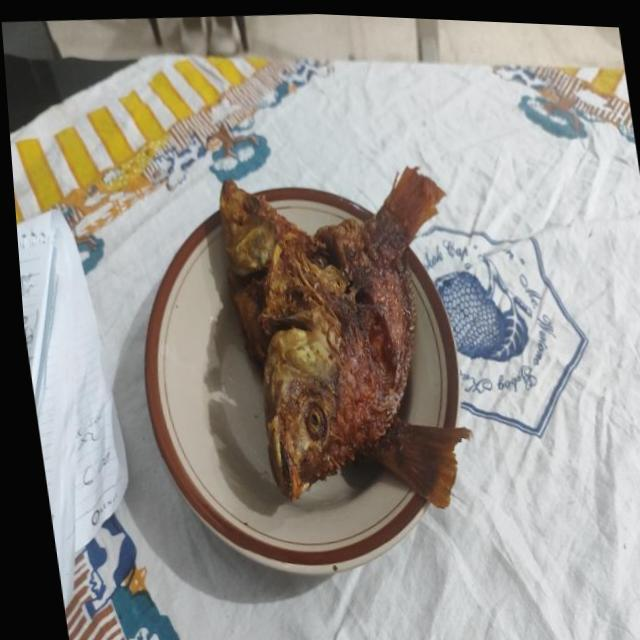ikan_mujair: (220, 180, 470, 506), (262, 172, 444, 502)
